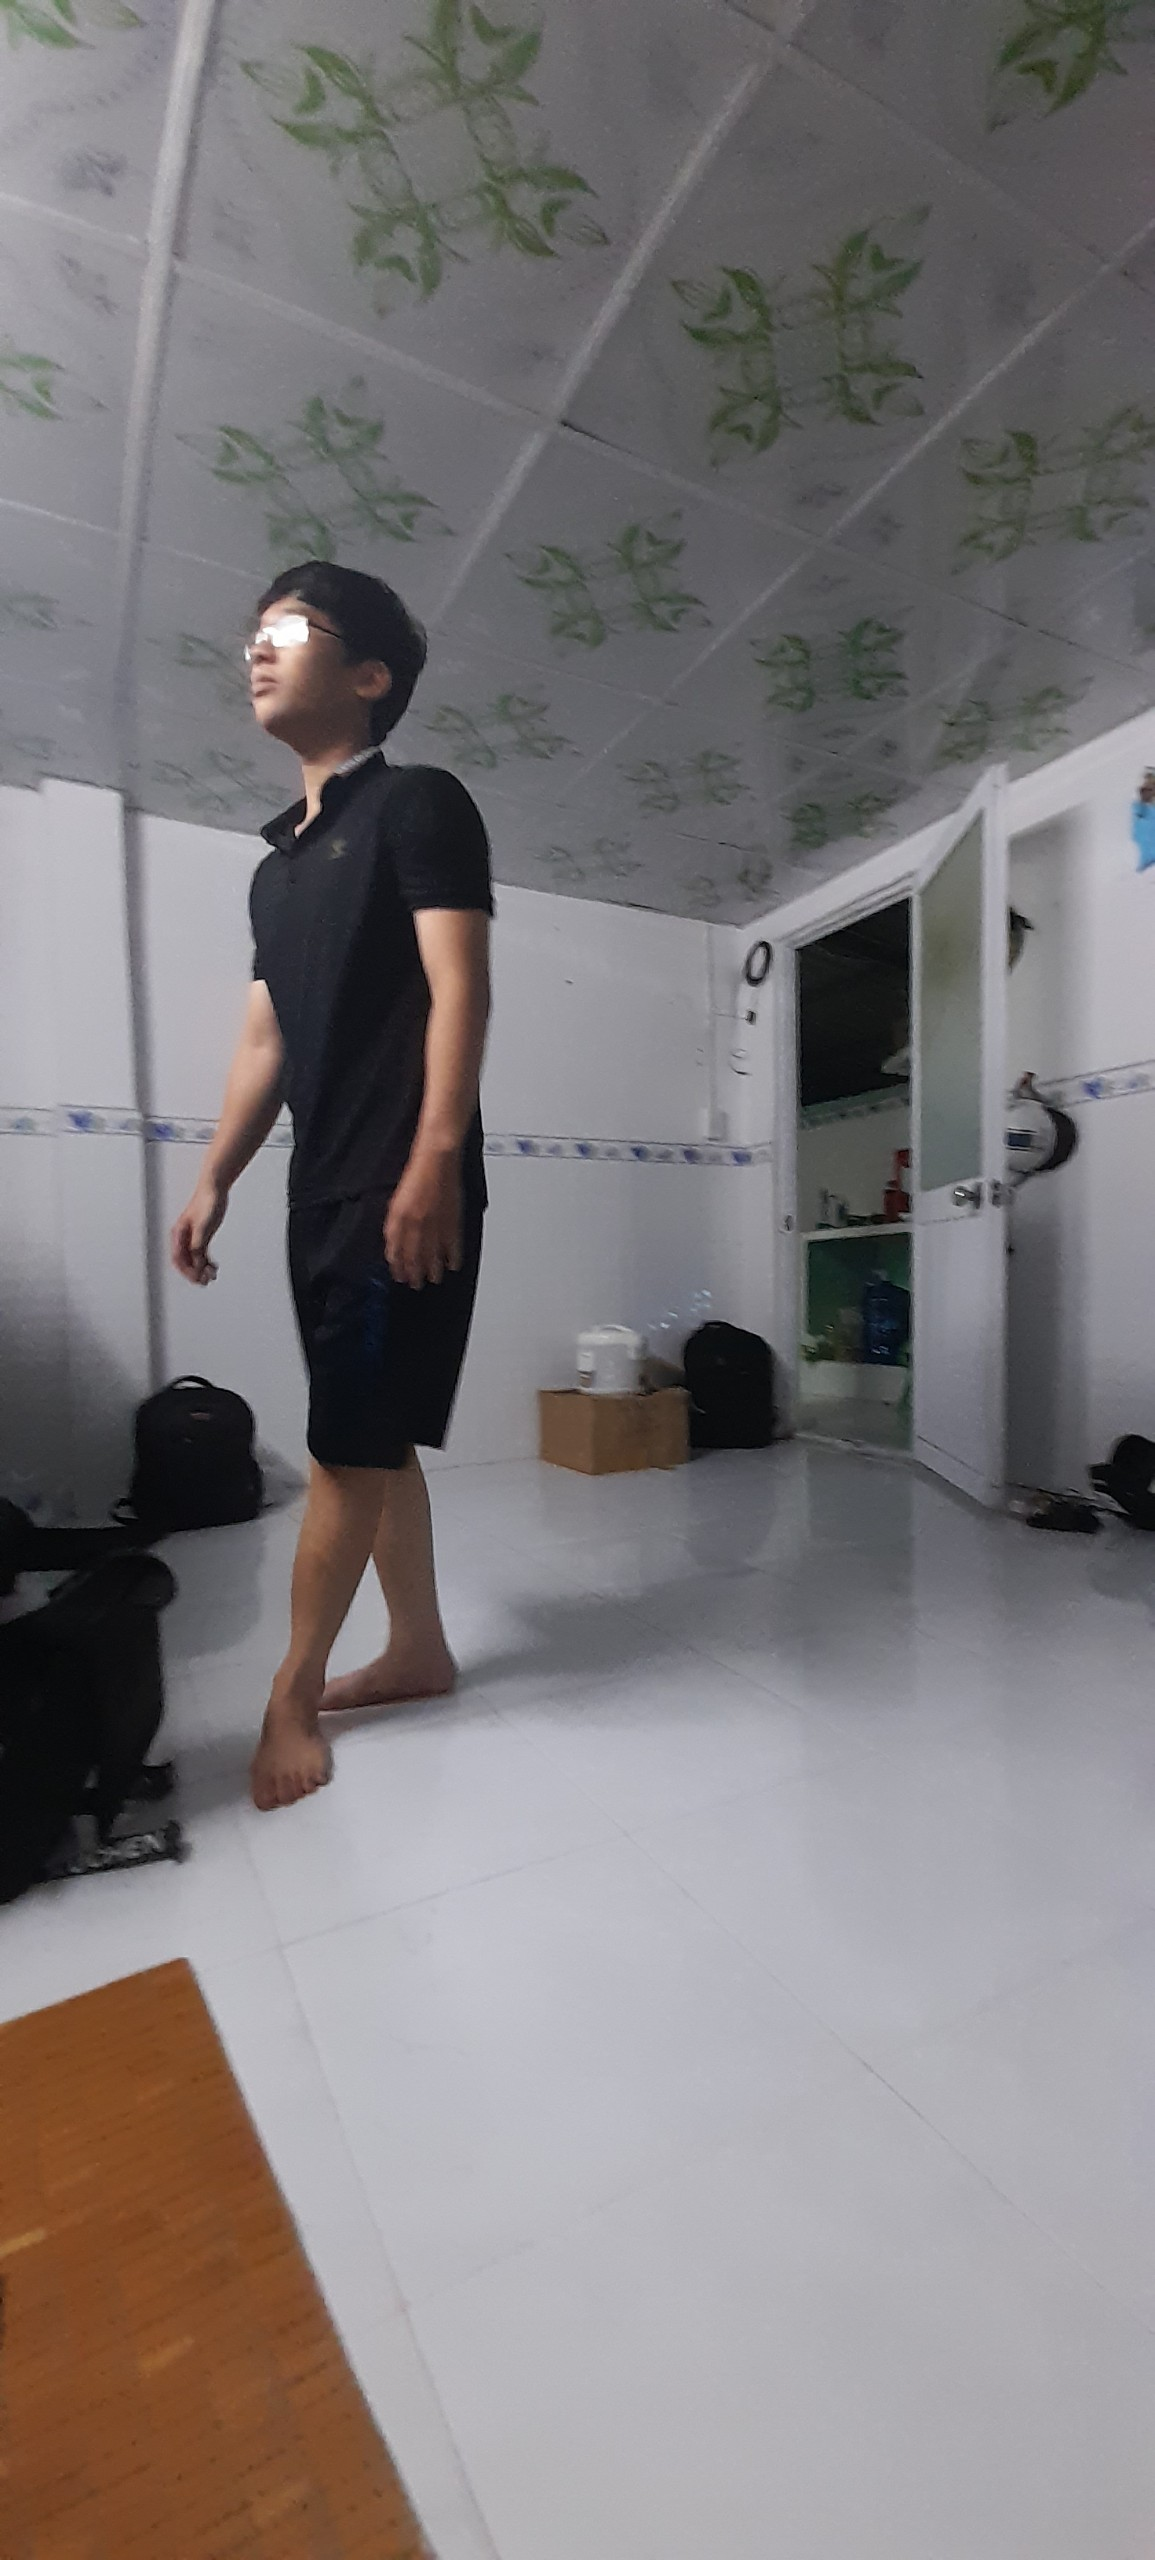person: (238, 566, 500, 1814)
